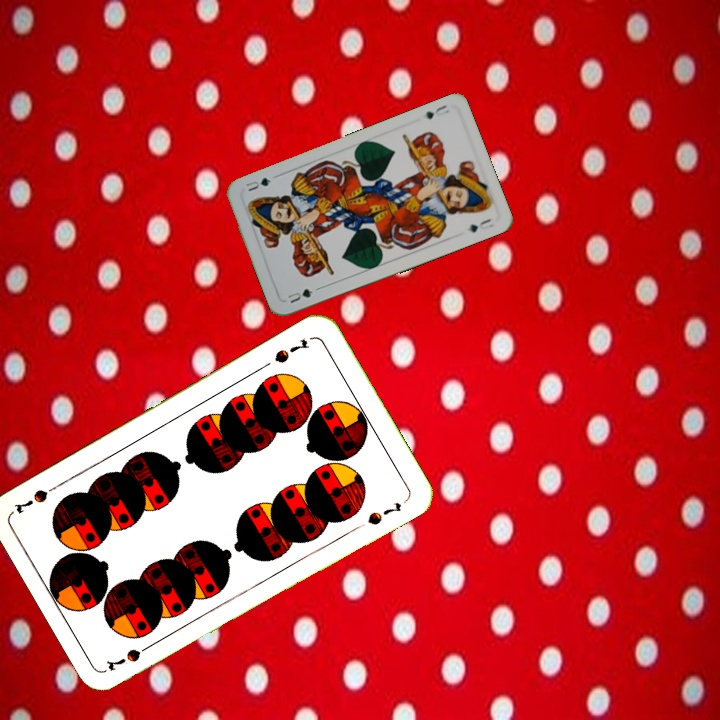GU: (284, 284, 316, 306), (421, 101, 452, 122)
S7: (102, 638, 158, 674), (270, 334, 312, 366)
